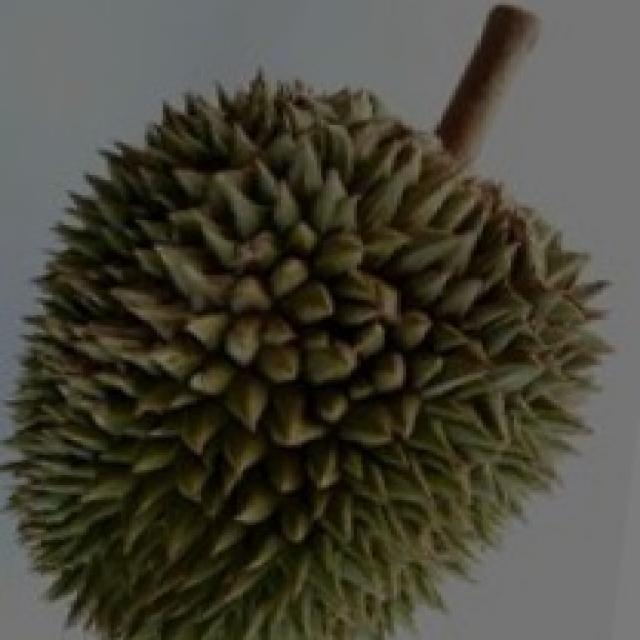fruit: (0, 13, 345, 465), (249, 250, 637, 640), (3, 255, 360, 640)
